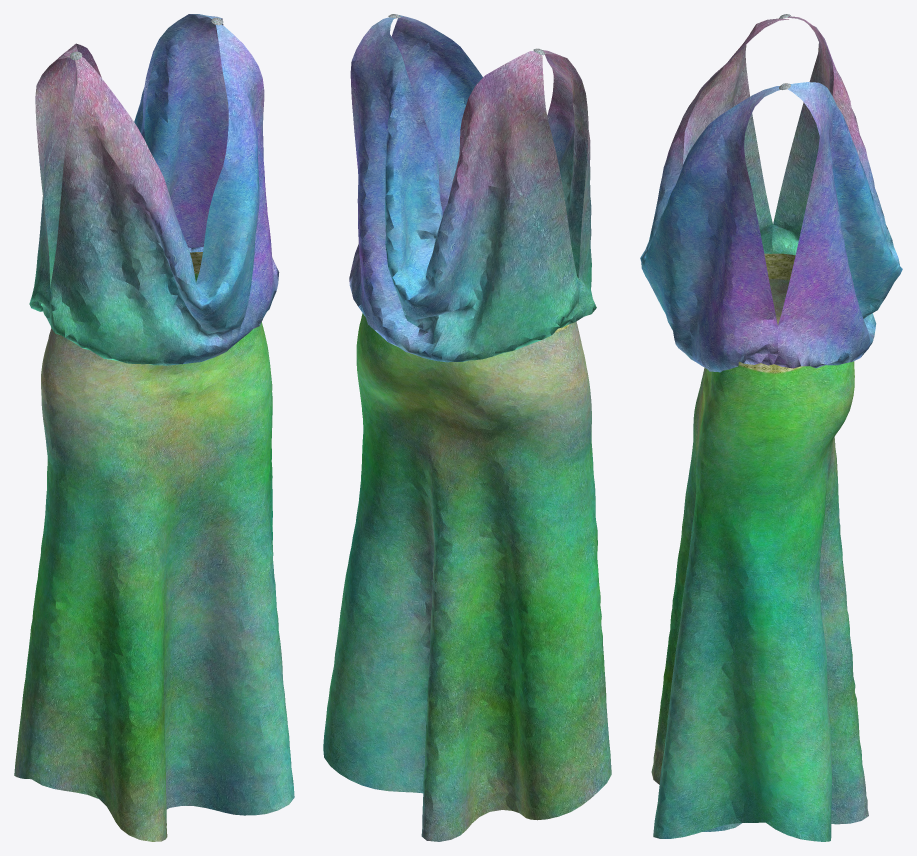
The model's file is elvs-goddess-dress2.glb.
3 views of the same model, side by side, from view 1: azimuth 30°, elevation 25°; view 2: azimuth 150°, elevation 25°; view 3: azimuth 270°, elevation 25° (orthographic). The views are drawn at different scales.
Parts seen in each view (by area): view 1: goddess dress2; view 2: goddess dress2; view 3: goddess dress2.
Part boxes in pixels (x1=…): goddess dress2: x1=14, y1=14, x2=294, y2=841; goddess dress2: x1=323, y1=14, x2=611, y2=841; goddess dress2: x1=640, y1=14, x2=902, y2=841.
Bounding box in the file's own units: 47.39 × 132 × 40.76.
1 material, 1 textured.
